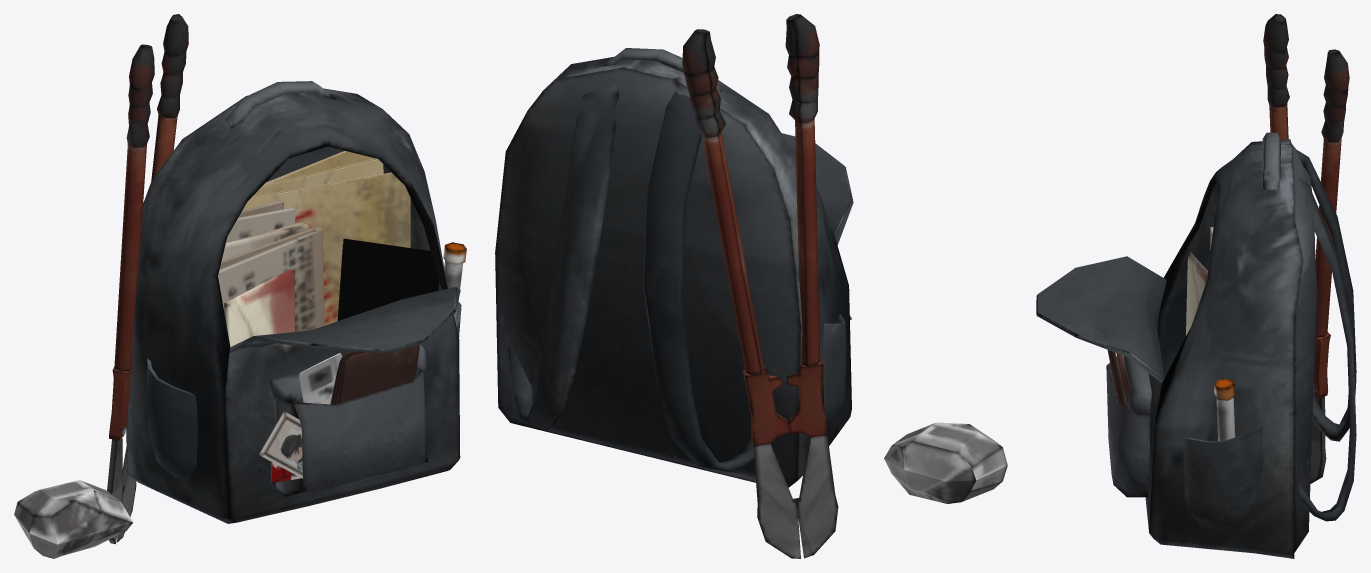
Rendered from Inventory_Asset.fbx.
3 views of the same model, side by side, from view 1: azimuth 30°, elevation 25°; view 2: azimuth 150°, elevation 25°; view 3: azimuth 270°, elevation 25° (orthographic). The views are drawn at different scales.
Parts seen in each view (by area): view 1: Inventory, InventoryCutters, InventoryFile, InventoryStone, InventoryNewspaper, InventoryMap, InventoryEnvelope, InventoryWallet, InventoryPolaroid, InventoryFile.002, InventoryNewspaper.002, InventoryKeycard (+3 smaller); view 2: Inventory, InventoryCutters, InventoryStone; view 3: Inventory, InventoryCutters, InventoryTestTube, InventoryEnvelope, InventoryWallet.
Part boxes in pixels (x1,y1,x2,y2): Inventory: (126,81,461,523); InventoryCutters: (107,14,188,544); InventoryFile: (243,172,410,325); InventoryStone: (14,480,133,558); InventoryNewspaper: (218,227,324,331); InventoryMap: (337,238,439,320); InventoryEnvelope: (224,269,295,346); InventoryWallet: (330,345,419,404); InventoryPolaroid: (259,411,302,478); InventoryFile.002: (252,158,383,196); InventoryNewspaper.002: (226,201,296,242); InventoryKeycard: (298,353,342,404); Inventory: (495,48,853,487); InventoryCutters: (682,14,838,558); InventoryStone: (884,422,1007,503); Inventory: (1036,132,1356,558); InventoryCutters: (1263,14,1349,483); InventoryTestTube: (1214,378,1235,440); InventoryEnvelope: (1186,250,1208,335); InventoryWallet: (1107,350,1131,406).
Size of the model in its own units: 55.5 by 36.02 by 59.28.
